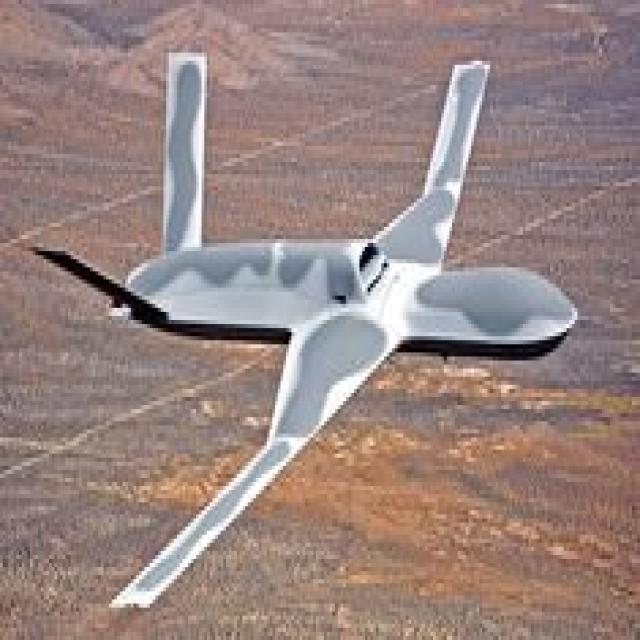iha: (30, 45, 578, 604)
